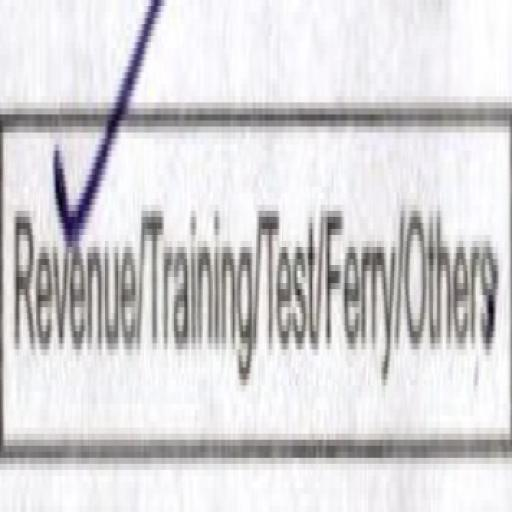check: (1, 0, 140, 490)
